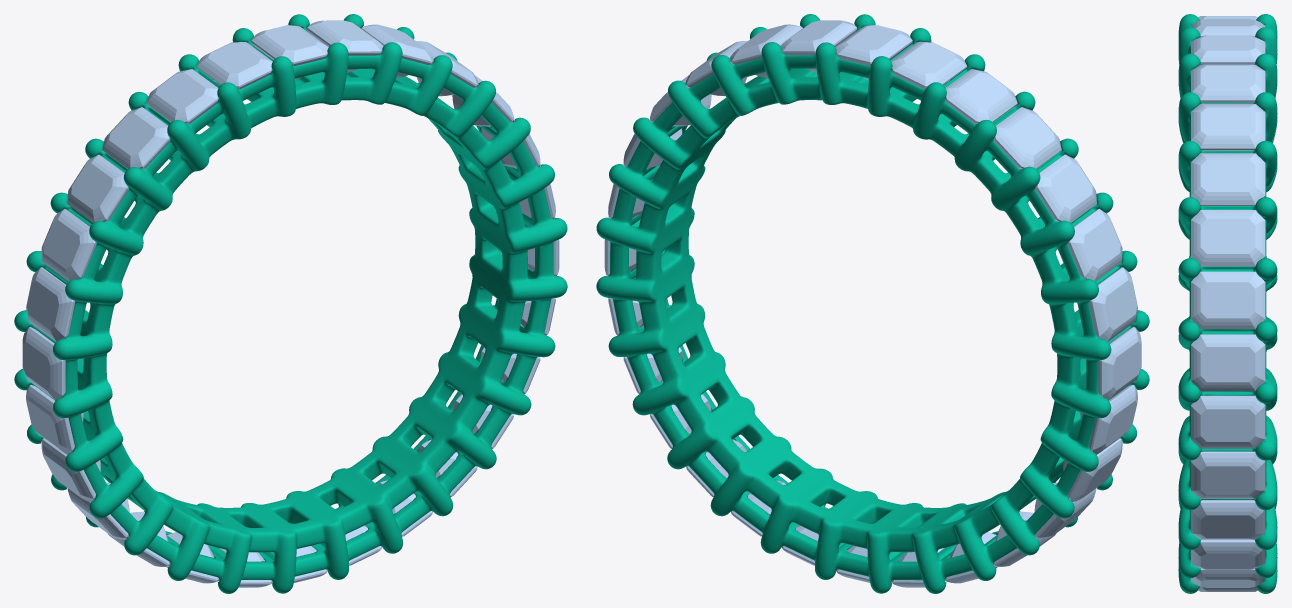
Rendered from BE2DEM200E_RENDER.glb.
The picture shows the model from 3 angles, left to right: view 1: azimuth 30°, elevation 25°; view 2: azimuth 150°, elevation 25°; view 3: azimuth 270°, elevation 25°; orthographic projection. The views are drawn at different scales.
Parts seen in each view (by area): view 1: Metal03, Diamond_Emerald_Gem_BD.023, Diamond_Emerald_Gem_BD.024, Diamond_Emerald_Gem_BD.022, Diamond_Emerald_Gem_BD.025, Diamond_Emerald_Gem_BD.021, Diamond_Emerald_Gem_BD.026, Diamond_Emerald_Gem_BD.020, Diamond_Emerald_Gem_BD.027, Diamond_Emerald_Gem_BD.019, Diamond_Emerald_Gem_BD, Diamond_Emerald_Gem_BD.018 (+3 smaller); view 2: Metal03, Diamond_Emerald_Gem_BD.023, Diamond_Emerald_Gem_BD.024, Diamond_Emerald_Gem_BD.022, Diamond_Emerald_Gem_BD.025, Diamond_Emerald_Gem_BD.021, Diamond_Emerald_Gem_BD.026, Diamond_Emerald_Gem_BD.020, Diamond_Emerald_Gem_BD.027, Diamond_Emerald_Gem_BD.019, Diamond_Emerald_Gem_BD, Diamond_Emerald_Gem_BD.018 (+3 smaller); view 3: Metal03, Diamond_Emerald_Gem_BD.004, Diamond_Emerald_Gem_BD.005, Diamond_Emerald_Gem_BD.003, Diamond_Emerald_Gem_BD.006, Diamond_Emerald_Gem_BD.002, Diamond_Emerald_Gem_BD.007, Diamond_Emerald_Gem_BD.001, Diamond_Emerald_Gem_BD.008, Diamond_Emerald_Gem_BD, Diamond_Emerald_Gem_BD.009, Diamond_Emerald_Gem_BD.027 (+4 smaller).
Part boxes in pixels (left/top/right/bottom): Metal03: left=14, top=14, right=567, bottom=593; Diamond_Emerald_Gem_BD.023: left=67, top=154, right=128, bottom=222; Diamond_Emerald_Gem_BD.024: left=102, top=107, right=170, bottom=169; Diamond_Emerald_Gem_BD.022: left=41, top=209, right=96, bottom=281; Diamond_Emerald_Gem_BD.025: left=146, top=69, right=218, bottom=124; Diamond_Emerald_Gem_BD.021: left=26, top=267, right=74, bottom=341; Diamond_Emerald_Gem_BD.026: left=197, top=42, right=272, bottom=89; Diamond_Emerald_Gem_BD.020: left=22, top=327, right=78, bottom=400; Diamond_Emerald_Gem_BD.027: left=251, top=25, right=328, bottom=79; Diamond_Emerald_Gem_BD.019: left=26, top=385, right=83, bottom=454; Diamond_Emerald_Gem_BD: left=307, top=20, right=383, bottom=72; Diamond_Emerald_Gem_BD.018: left=41, top=438, right=100, bottom=501; Metal03: left=596, top=14, right=1149, bottom=593; Diamond_Emerald_Gem_BD.023: left=1035, top=154, right=1096, bottom=222; Diamond_Emerald_Gem_BD.024: left=993, top=107, right=1061, bottom=168; Diamond_Emerald_Gem_BD.022: left=1067, top=209, right=1122, bottom=281; Diamond_Emerald_Gem_BD.025: left=945, top=69, right=1017, bottom=123; Diamond_Emerald_Gem_BD.021: left=1089, top=267, right=1137, bottom=341; Diamond_Emerald_Gem_BD.026: left=891, top=41, right=967, bottom=89; Diamond_Emerald_Gem_BD.020: left=1085, top=327, right=1141, bottom=400; Diamond_Emerald_Gem_BD.027: left=835, top=25, right=912, bottom=79; Diamond_Emerald_Gem_BD.019: left=1080, top=385, right=1137, bottom=454; Diamond_Emerald_Gem_BD: left=780, top=20, right=856, bottom=72; Diamond_Emerald_Gem_BD.018: left=1063, top=438, right=1122, bottom=501; Metal03: left=1178, top=14, right=1277, bottom=593; Diamond_Emerald_Gem_BD.004: left=1191, top=271, right=1265, bottom=329; Diamond_Emerald_Gem_BD.005: left=1191, top=334, right=1265, bottom=391; Diamond_Emerald_Gem_BD.003: left=1191, top=210, right=1265, bottom=266; Diamond_Emerald_Gem_BD.006: left=1191, top=395, right=1265, bottom=448; Diamond_Emerald_Gem_BD.002: left=1191, top=153, right=1265, bottom=205; Diamond_Emerald_Gem_BD.007: left=1191, top=451, right=1265, bottom=498; Diamond_Emerald_Gem_BD.001: left=1191, top=104, right=1265, bottom=150; Diamond_Emerald_Gem_BD.008: left=1191, top=500, right=1265, bottom=539; Diamond_Emerald_Gem_BD: left=1191, top=64, right=1265, bottom=103; Diamond_Emerald_Gem_BD.009: left=1191, top=539, right=1265, bottom=569; Diamond_Emerald_Gem_BD.027: left=1191, top=35, right=1265, bottom=64.
Size of the model in its own units: 21.03 by 21.03 by 3.59.
